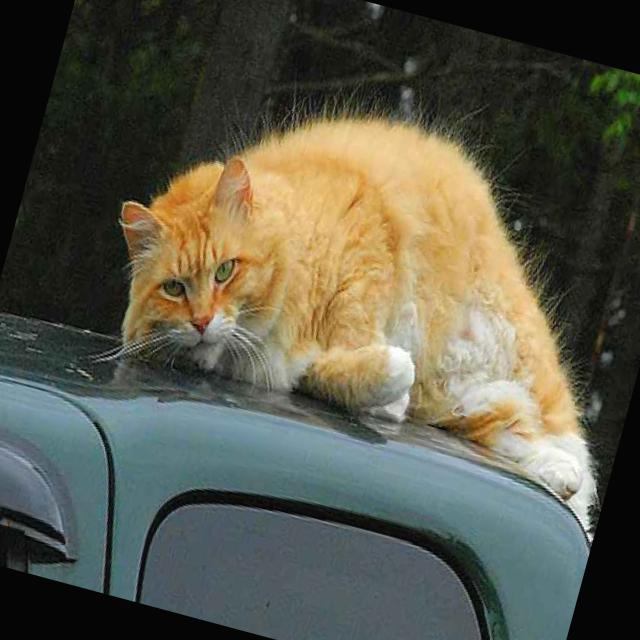Vehicle: (0, 294, 614, 640), (0, 305, 611, 640)
